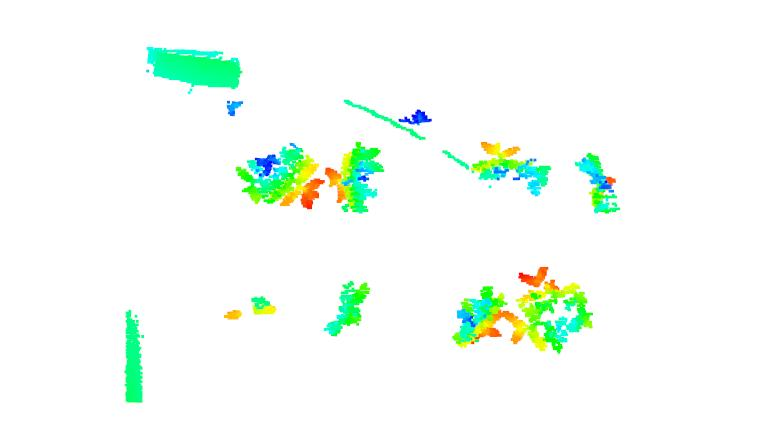chickpea: (236, 141, 321, 211), (471, 142, 552, 199), (325, 140, 383, 214), (512, 264, 594, 315), (503, 310, 592, 354), (445, 286, 507, 345), (571, 150, 624, 217), (320, 277, 373, 340), (218, 296, 278, 324)
